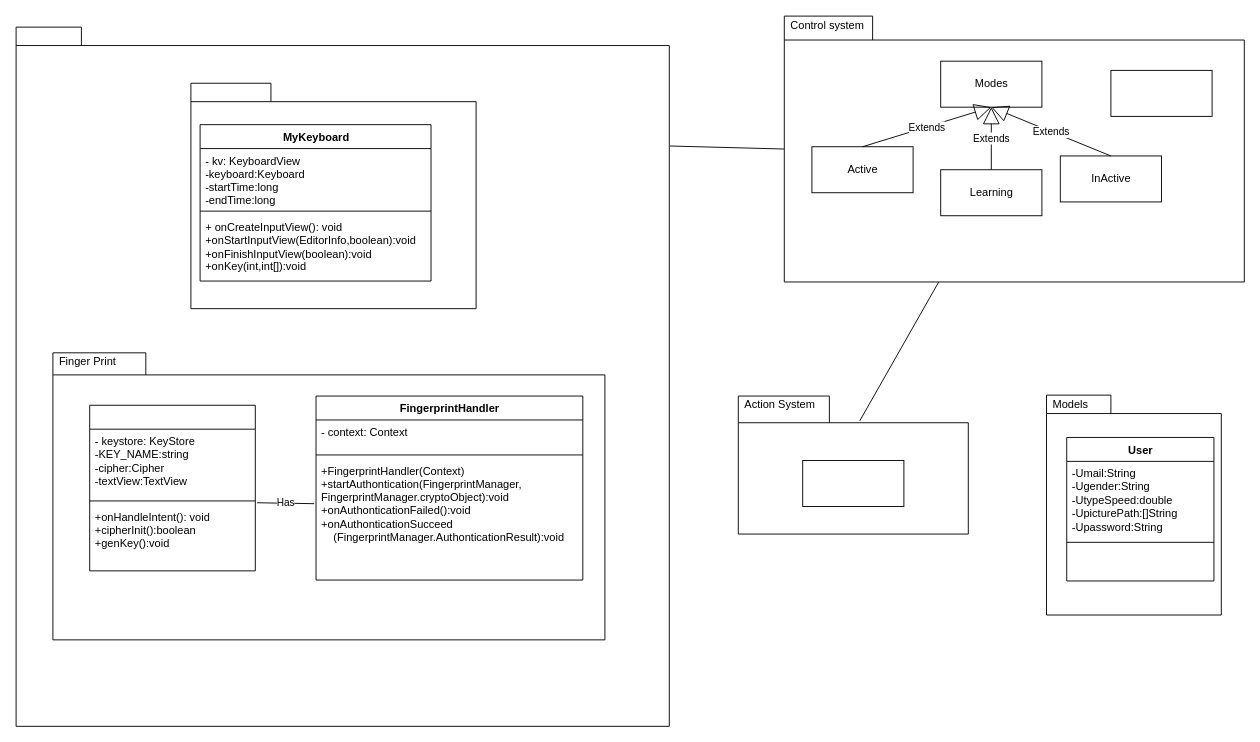
The diagram is 1260 pixels wide and 742 high, and some of its shapes have lost their labels. The shapes that lost their labels are listed below. From the top down, each one's box as (x1, y1, x2, y2) in pixels, then its label:
(1110, 69, 1212, 116): UserController
(190, 82, 476, 309): Type Speed
(15, 26, 669, 726): Sprint-A
(89, 404, 255, 571): FingerPrintService
(802, 460, 904, 506): ActionHandler
